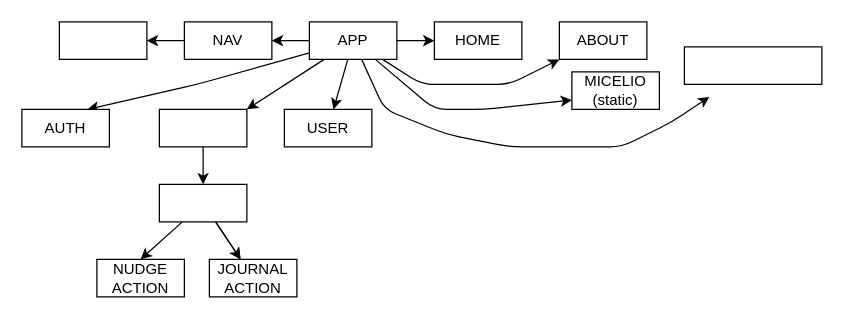
The diagram is 844 pixels wide and 319 high, and some of its shapes have lost their labels. Each missing label, with the box of its shape:
ACTION CONTAINER: (158, 183, 247, 222)
DRAWER: (58, 21, 147, 59)
PILLARS: (158, 108, 247, 147)
RECOMMENDED: (683, 46, 822, 84)
